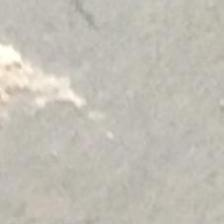Non_Crack: (12, 8, 224, 224)
